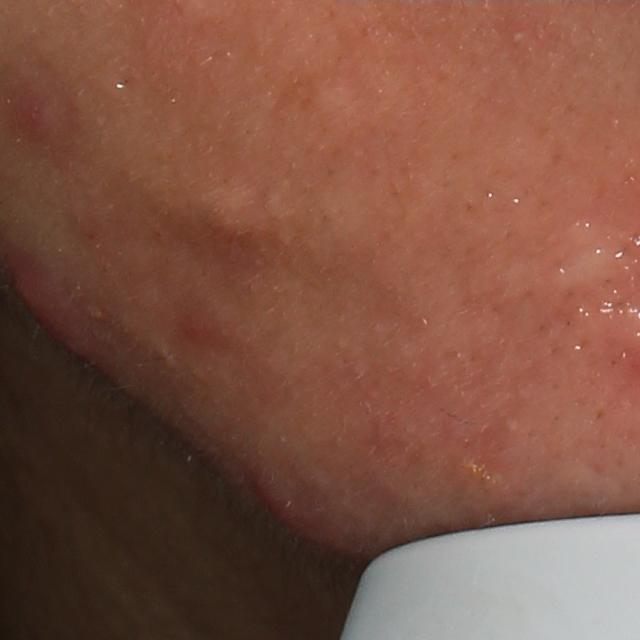hypertrophic_scar: (542, 216, 632, 294), (191, 184, 265, 252), (308, 77, 380, 137)
papule: (4, 261, 114, 380), (247, 457, 327, 519), (6, 91, 59, 138)
